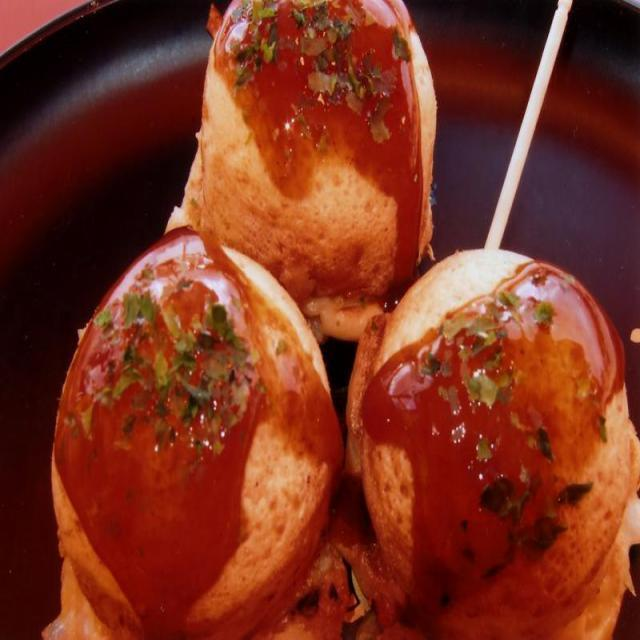takoyaki: (41, 0, 640, 639)
